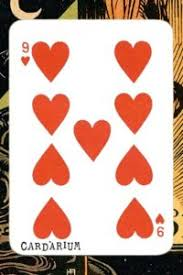nine of hearts: (8, 20, 173, 255)
